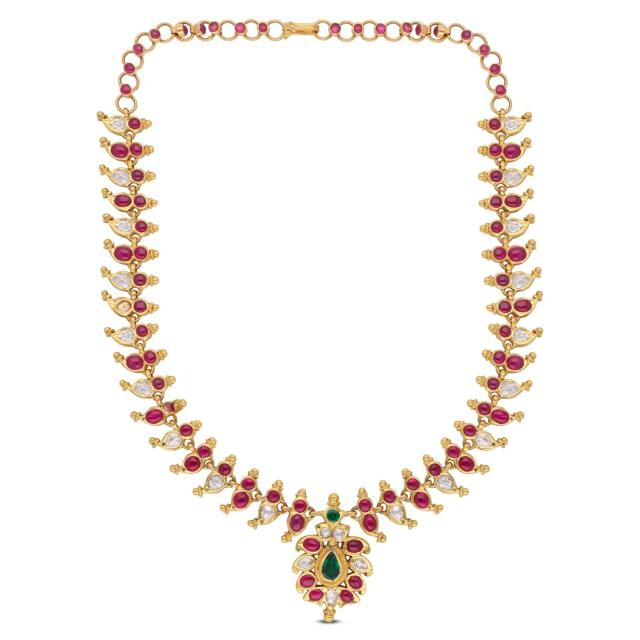missing gem: (114, 300, 130, 313), (164, 403, 174, 412)
